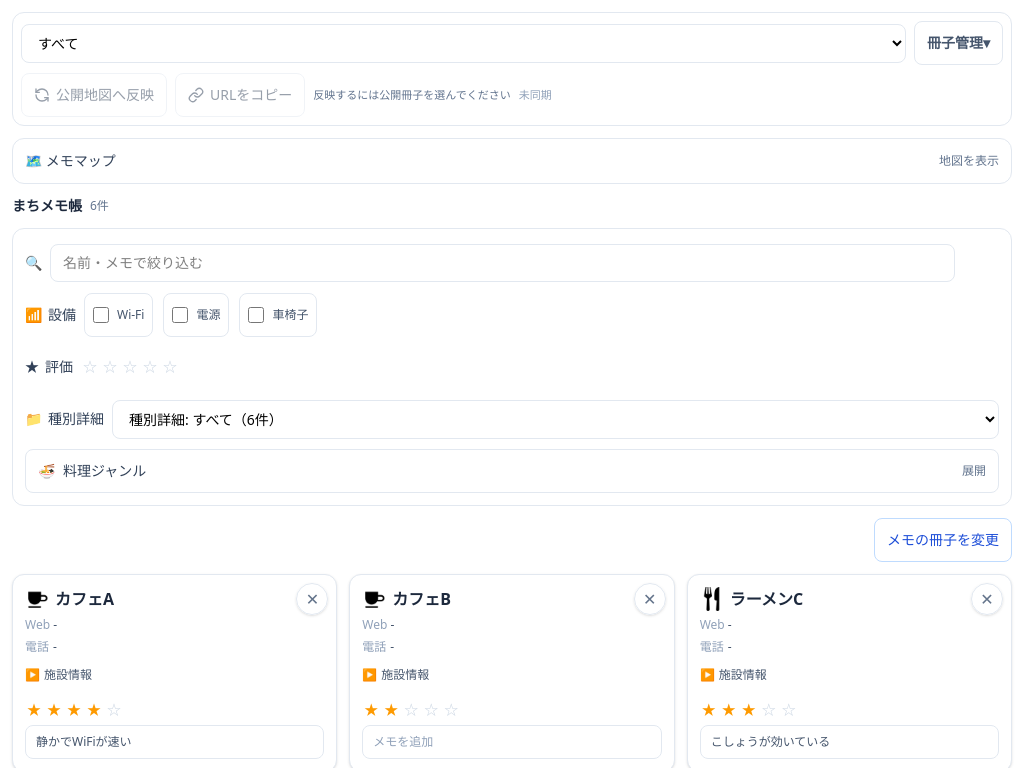
it: MemochoSection: フィルタバー › ★評価: 星4を押すと rating が 4 以上だけ残り、星5を押すと 5 星だけ残る
Click the button named "★4以上で絞り込む".
click(150, 367)  # box [141,358,159,376]
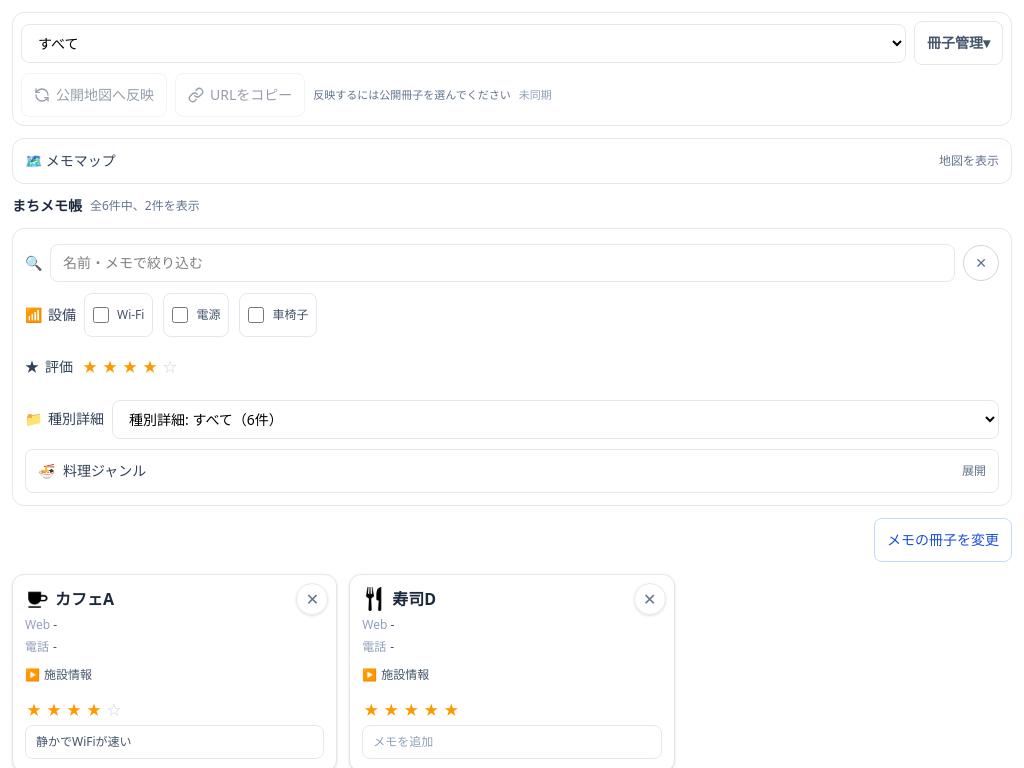
Check: the heading "カフェB" is gone
Check: the heading "ラーメンC" is gone
Check: the text "全6件中、2件を表示" is shown, box [90,198,200,214]
Click the button named "★5のみで絞り込む".
click(170, 367)  # box [161,358,179,376]
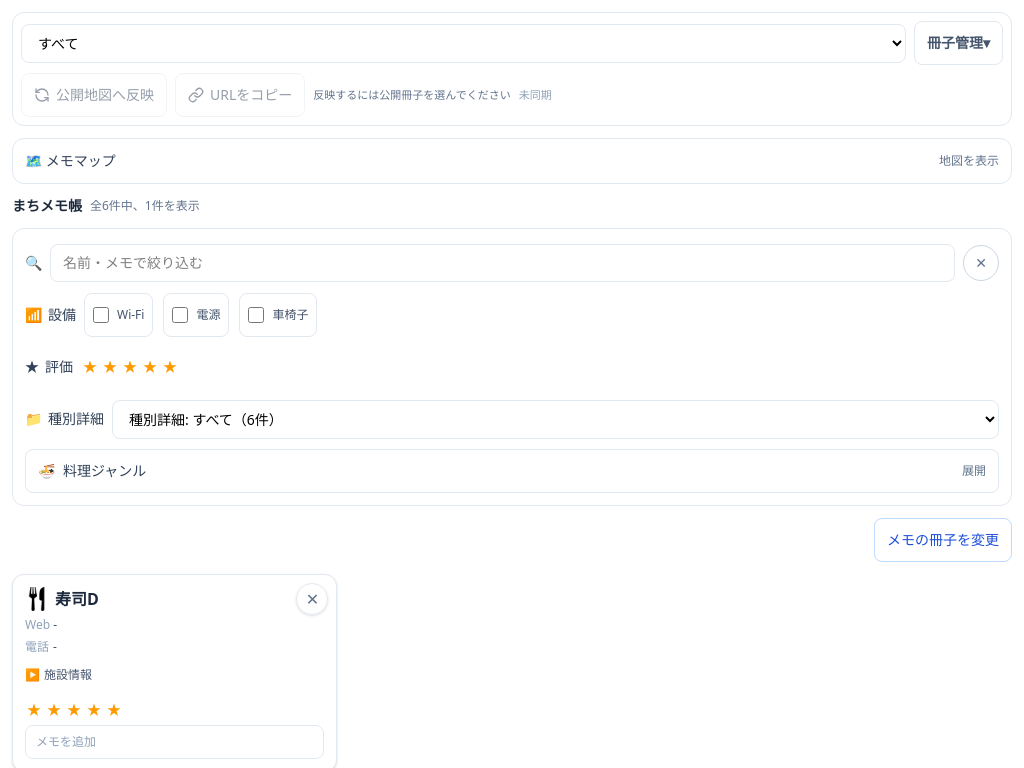
Check: the heading "寿司D" is shown, box [55,587,99,611]
Check: the heading "カフェA" is gone
Check: the text "全6件中、1件を表示" is shown, box [90,198,200,214]
